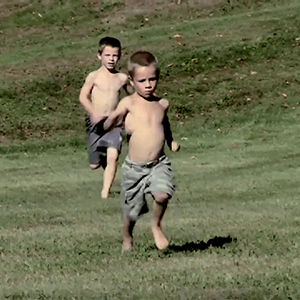person: (101, 51, 183, 254), (77, 34, 134, 201)
